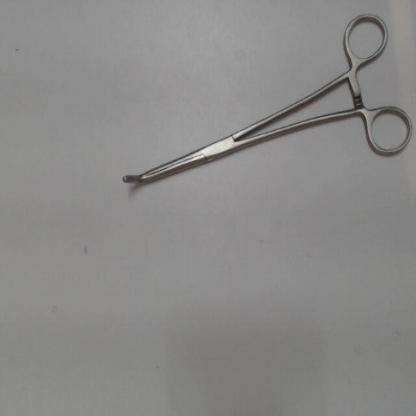Lahey Forceps: (118, 5, 414, 194)
